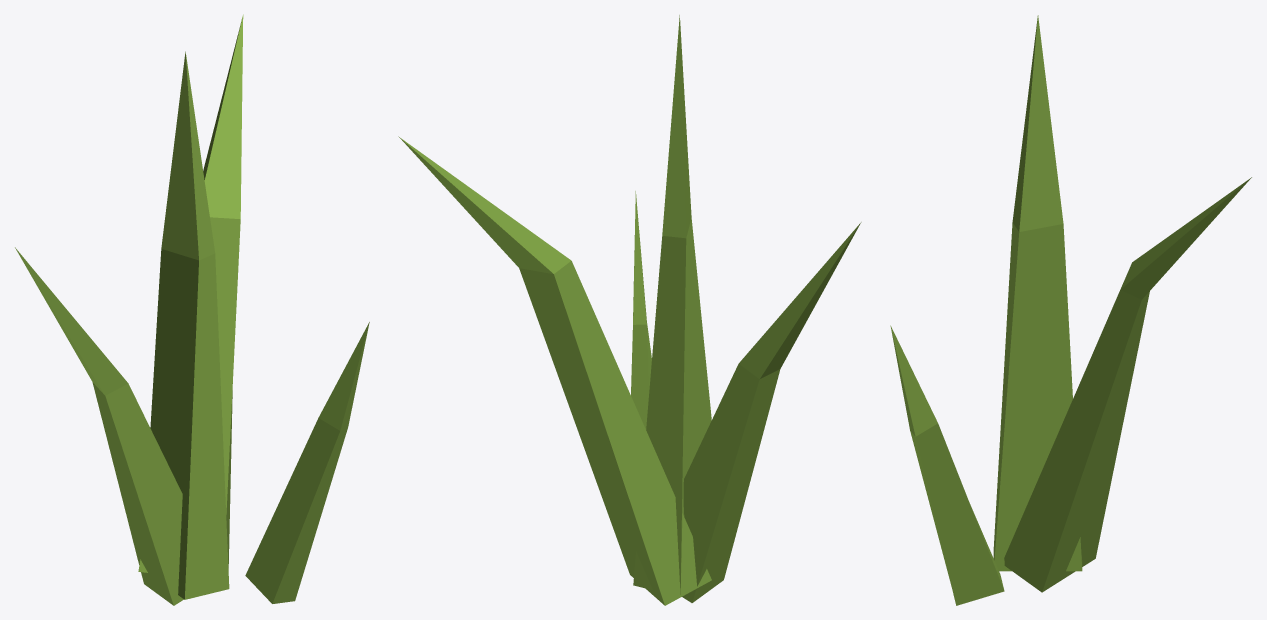
File: Grass_03.fbx
The picture shows the model from 3 angles, left to right: view 1: azimuth 30°, elevation 25°; view 2: azimuth 150°, elevation 25°; view 3: azimuth 270°, elevation 25°; orthographic projection. The views are drawn at different scales.
Parts seen in each view (by area): view 1: Grass_03; view 2: Grass_03; view 3: Grass_03.
Boxes of the visible parts, left/top/right/bottom form: Grass_03: left=15, top=14, right=369, bottom=605; Grass_03: left=398, top=15, right=861, bottom=605; Grass_03: left=890, top=15, right=1251, bottom=605.
Bounding box in the file's own units: 11.65 × 18 × 10.62.
